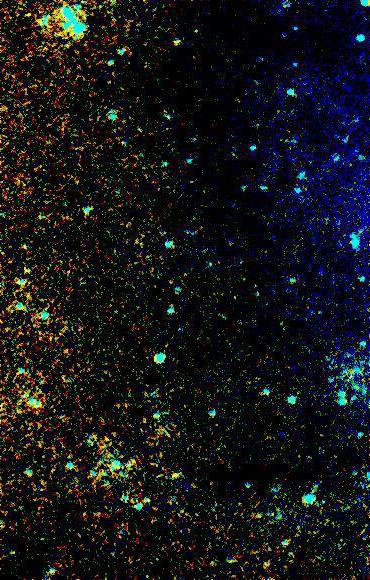star: (164, 461, 194, 491)
